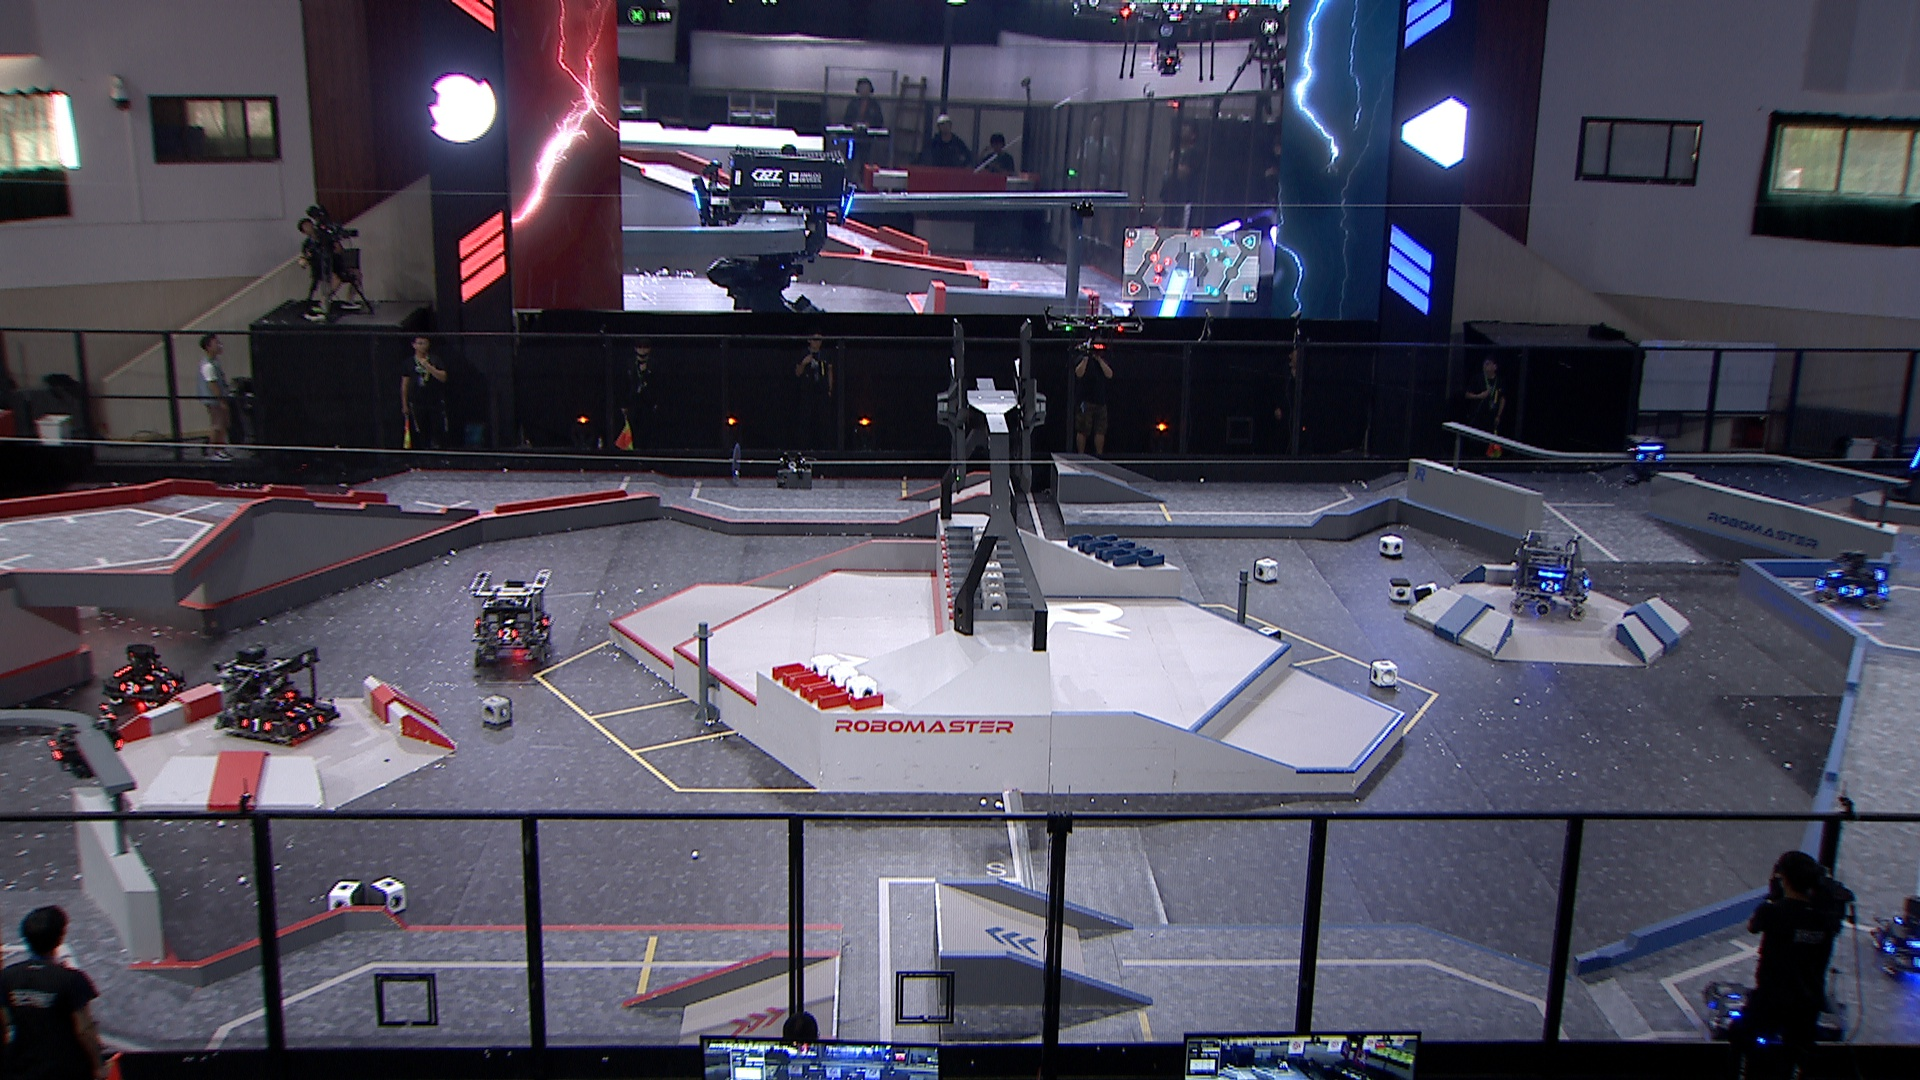armor: (1721, 989, 1750, 1021), (237, 713, 276, 735), (297, 713, 328, 733), (46, 737, 67, 765), (285, 699, 316, 717), (1836, 582, 1863, 603), (142, 665, 171, 683), (1636, 448, 1665, 465), (158, 674, 182, 694), (119, 678, 140, 698), (495, 626, 520, 641), (1539, 579, 1564, 593), (1822, 564, 1844, 582), (1905, 447, 1920, 469)
base: (1884, 414, 1920, 509)
car: (1704, 935, 1850, 1046), (207, 642, 339, 745), (465, 567, 553, 669), (1506, 524, 1594, 622), (102, 641, 191, 713), (1813, 543, 1887, 612), (1869, 891, 1920, 978)
ignore: (688, 144, 858, 320)
watcher: (45, 700, 128, 782), (1622, 433, 1669, 488)
